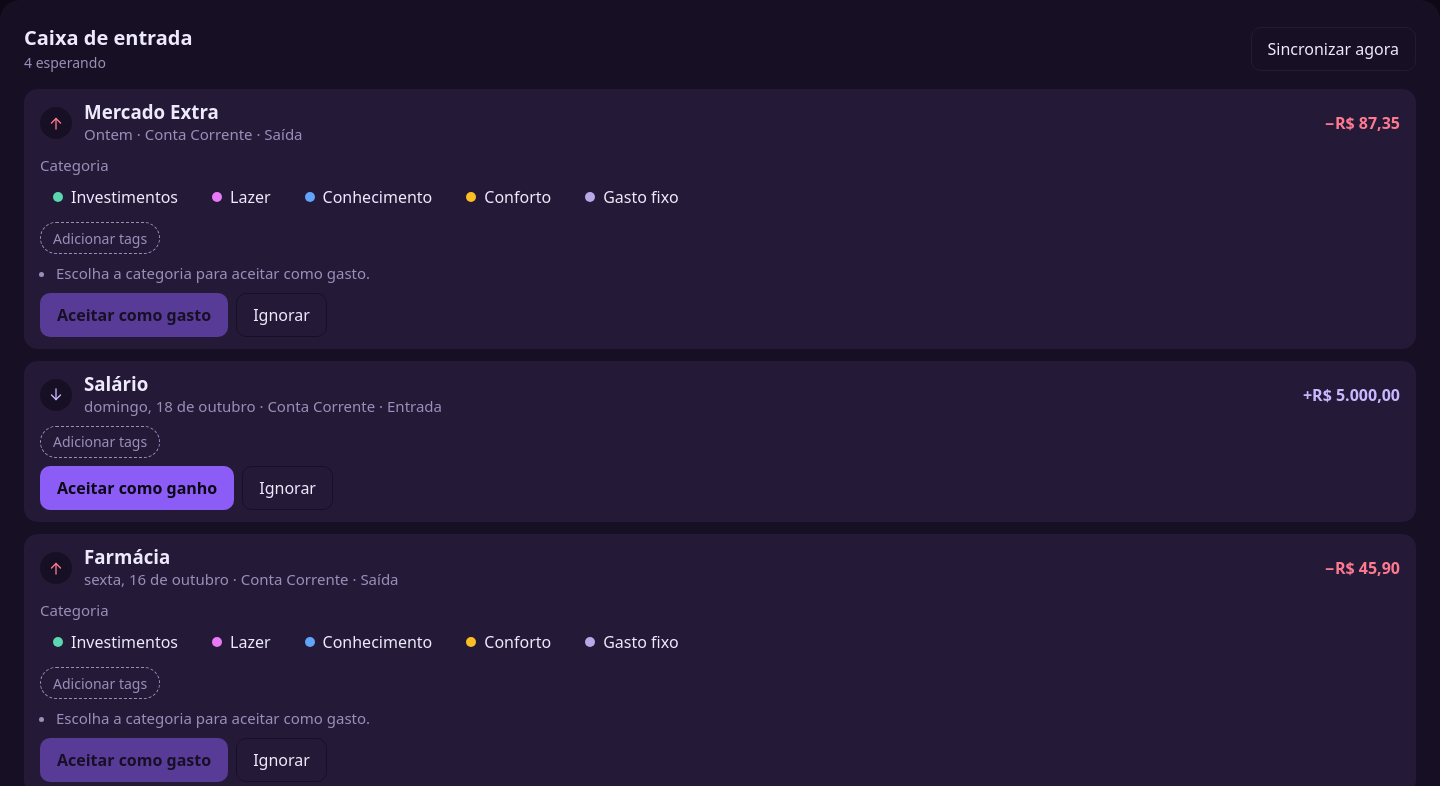
Test: CaixaDeEntrada › aceitar uma saída pede a categoria e cria o gasto sem mexer no saldo
The image size is (1440, 786).
Expected: the button "Sincronizar agora" is shown, [1250,26,1416,70]
Expected: the button "Aceitar como gasto" below "Farmácia" is disabled, [40,738,228,782]
Click the radio button labelled "Conforto" below "sexta, 16 de outubro" at (509,642), box [453,625,564,659]
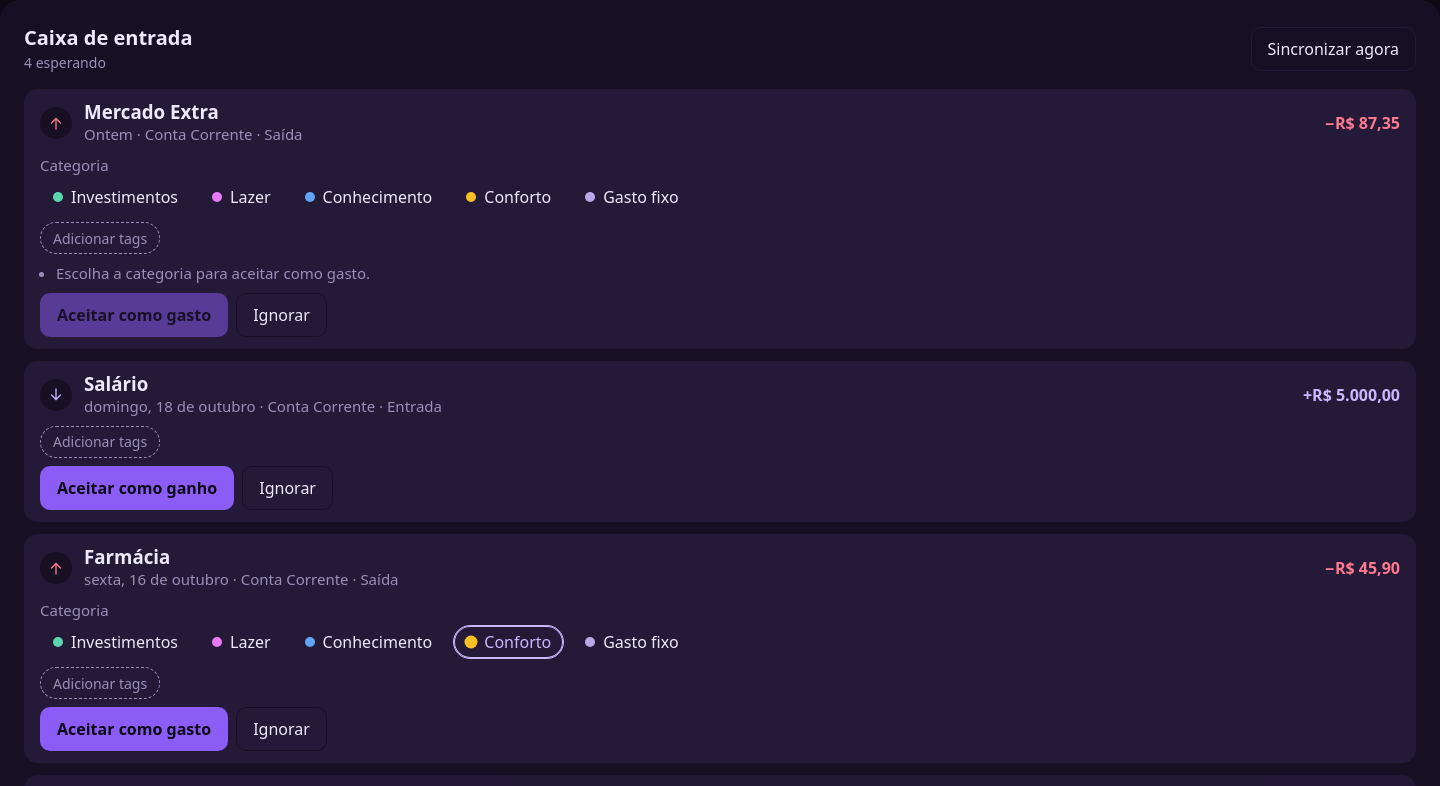
Expected: the button "Aceitar como gasto" below "Farmácia" is enabled
Click the button "Aceitar como gasto" below "Farmácia" at (134,729), box [40,707,228,751]
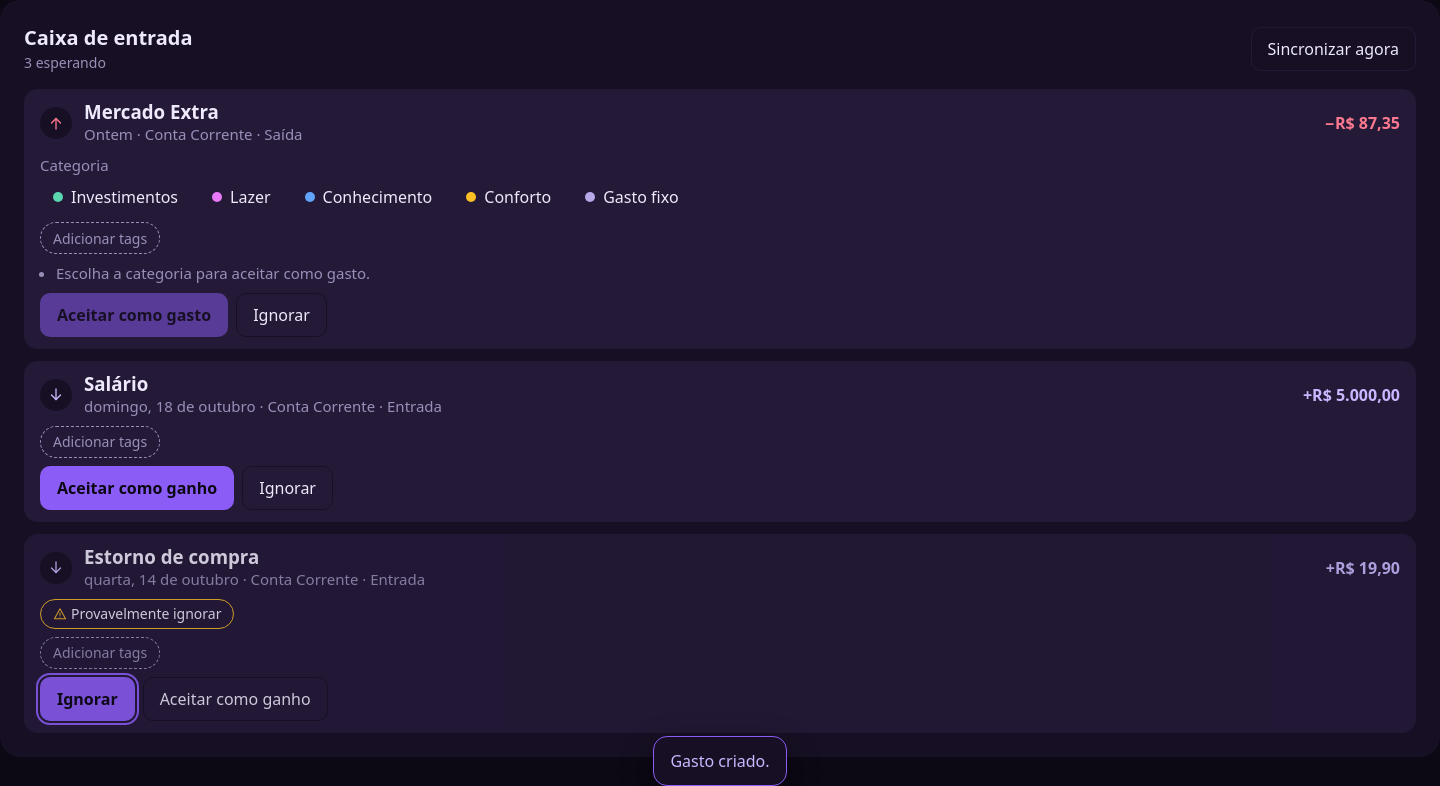
Expected: the text "Gasto criado." is shown, [670,750,770,772]
Expected: the heading "Farmácia" is gone
